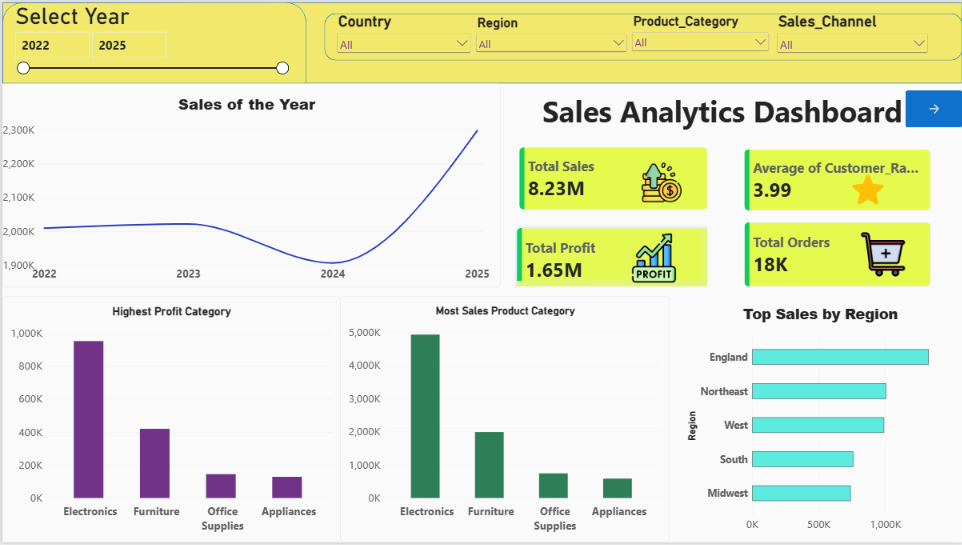

What the dashboard file says about the page in this screenshot:
{"tool":"powerbi","page":{"name":"Page 1","canvas":[1920,1080],"ordinal":0},"visuals":[{"type":"shape","box":[0,0,1920,162],"z":0},{"type":"shape","box":[0,0,608,162],"z":1000},{"type":"shape","box":[644,22,1276,94],"z":2000},{"type":"cardVisual","fields":{"Data":["sales_dataset.total_sale"]},"box":[1034,290,376,124],"z":3000},{"type":"cardVisual","fields":{"Data":["sales_dataset.total_order"]},"box":[1484,440,372,128],"z":4000},{"type":"cardVisual","fields":{"Data":["sales_dataset.total_profit"]},"box":[1018,440,392,128],"z":5000},{"type":"cardVisual","fields":{"Data":["Avg(sales_dataset.Customer_Rating)"]},"box":[1484,294,372,122],"z":6000},{"type":"columnChart","title":" Most Sales Product Category  ","fields":{"Category":["sales_dataset.Product_Category"],"Y":["Sum(sales_dataset.Sales_Amount)"]},"box":[676,588,658,492],"z":7000},{"type":"clusteredColumnChart","title":"Highest Profit Category","fields":{"Category":["sales_dataset.Product_Category"],"Y":["sales_dataset.total_profit"]},"box":[0,588,676,492],"z":8000},{"type":"lineChart","title":"Sales of the Year","fields":{"Category":["sales_dataset.Order_Date.Variation.Date Hierarchy.Year","sales_dataset.Order_Date.Variation.Date Hierarchy.Quarter","sales_dataset.Order_Date.Variation.Date Hierarchy.Month","sales_dataset.Order_Date.Variation.Date Hierarchy.Day"],"Y":["Sum(sales_dataset.Sales_Amount)"]},"box":[0,176,996,408],"z":9000},{"type":"barChart","title":"Top Sales by Region","fields":{"Category":["sales_dataset.Region"],"Y":["Sum(sales_dataset.Sales_Amount)"]},"box":[1352,588,568,492],"z":10000},{"type":"slicer","fields":{"Values":["sales_dataset.Order_Date.Variation.Date Hierarchy.Year"]},"box":[18,0,558,232],"z":11000},{"type":"slicer","fields":{"Values":["sales_dataset.Product_Category"]},"box":[1254,22,284,114],"z":12000},{"type":"slicer","fields":{"Values":["sales_dataset.Country"]},"box":[664,20,278,94],"z":13000},{"type":"slicer","fields":{"Values":["sales_dataset.Region"]},"box":[942,24,312,116],"z":14000},{"type":"slicer","fields":{"Values":["sales_dataset.Sales_Channel"]},"box":[1544,20,312,116],"z":15000},{"type":"textbox","box":[1018.8,175.5,844,110],"z":16000},{"type":"textbox","box":[1254,568,312,150],"z":17000},{"type":"image","box":[1700,458,122,92],"z":17001},{"type":"image","box":[1254,454,98,114],"z":17003},{"type":"image","box":[1240,320,156,80],"z":17005},{"type":"image","box":[1700,334,62,80],"z":17006},{"type":"actionButton","box":[1806,175.5,114,74.2],"z":17007}]}

Visuals, with their boxes in screenshot pixels (x1, y1, x2, y2), scaled from the page's 1920x1080 canvas onto the 962x545 screenshot:
shape: l=0, t=0, r=961, b=82
shape: l=0, t=0, r=305, b=82
shape: l=323, t=11, r=961, b=59
cardVisual - sales_dataset.total_sale: l=518, t=146, r=706, b=209
cardVisual - sales_dataset.total_order: l=744, t=222, r=930, b=287
cardVisual - sales_dataset.total_profit: l=510, t=222, r=706, b=287
cardVisual - Avg(sales_dataset.Customer_Rating): l=744, t=148, r=930, b=210
" Most Sales Product Category  " columnChart: l=339, t=297, r=668, b=544
"Highest Profit Category" clusteredColumnChart: l=0, t=297, r=339, b=544
"Sales of the Year" lineChart: l=0, t=89, r=499, b=295
"Top Sales by Region" barChart: l=677, t=297, r=961, b=544
slicer - sales_dataset.Order_Date.Variation.Date Hierarchy.Year: l=9, t=0, r=289, b=117
slicer - sales_dataset.Product_Category: l=628, t=11, r=771, b=69
slicer - sales_dataset.Country: l=333, t=10, r=472, b=58
slicer - sales_dataset.Region: l=472, t=12, r=628, b=71
slicer - sales_dataset.Sales_Channel: l=774, t=10, r=930, b=69
textbox: l=510, t=89, r=933, b=144
textbox: l=628, t=287, r=785, b=362
image: l=852, t=231, r=913, b=278
image: l=628, t=229, r=677, b=287
image: l=621, t=161, r=699, b=202
image: l=852, t=169, r=883, b=209
actionButton: l=905, t=89, r=961, b=126
